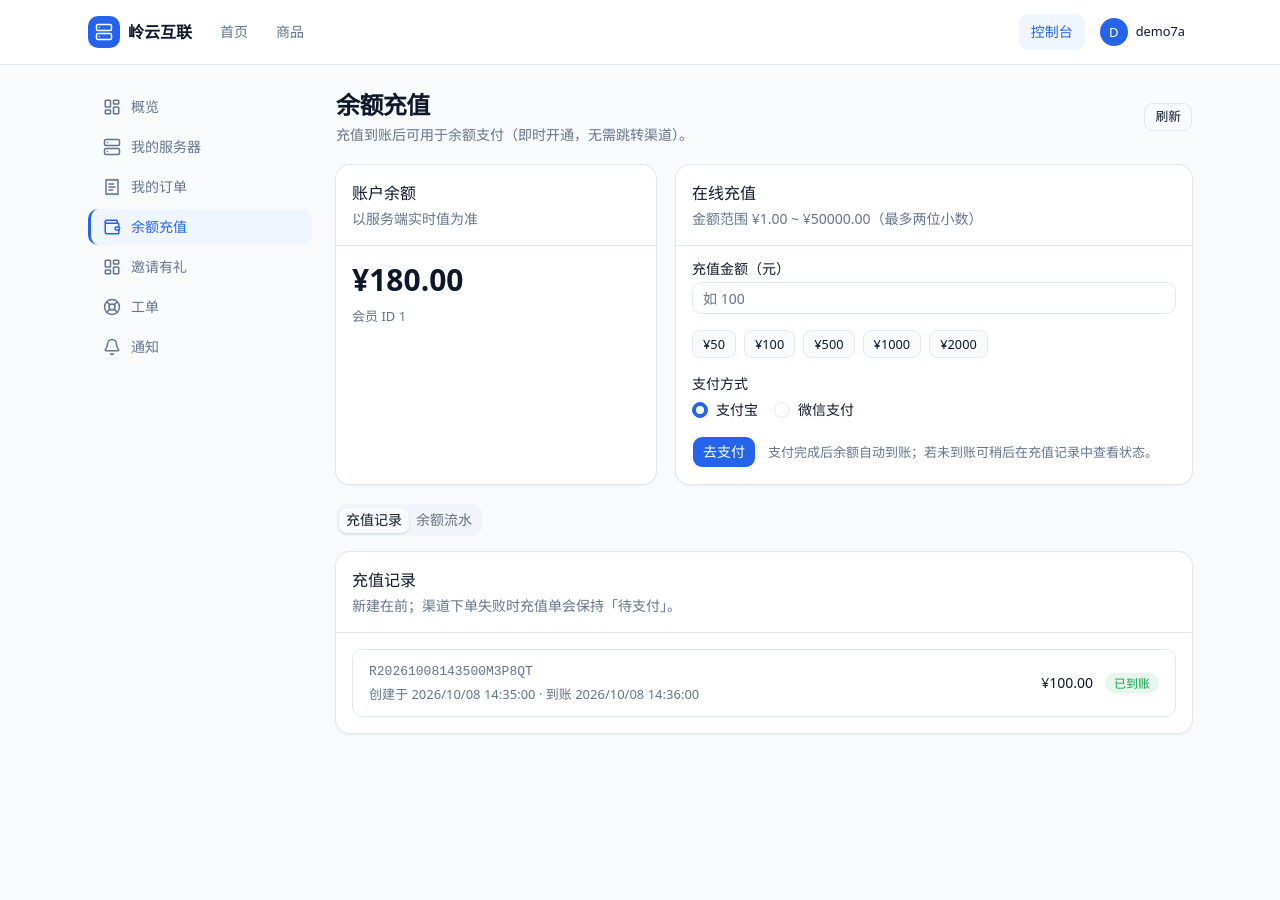
Scenario: 会员区 · 余额充值 › 渠道支付地址是脚本协议时给出可读提示，且不跳转、不静默失败
Check: the heading "余额充值" is shown, box [336,88,430,121]
Click the button "¥100" at (770, 344), box [744,330,795,358]
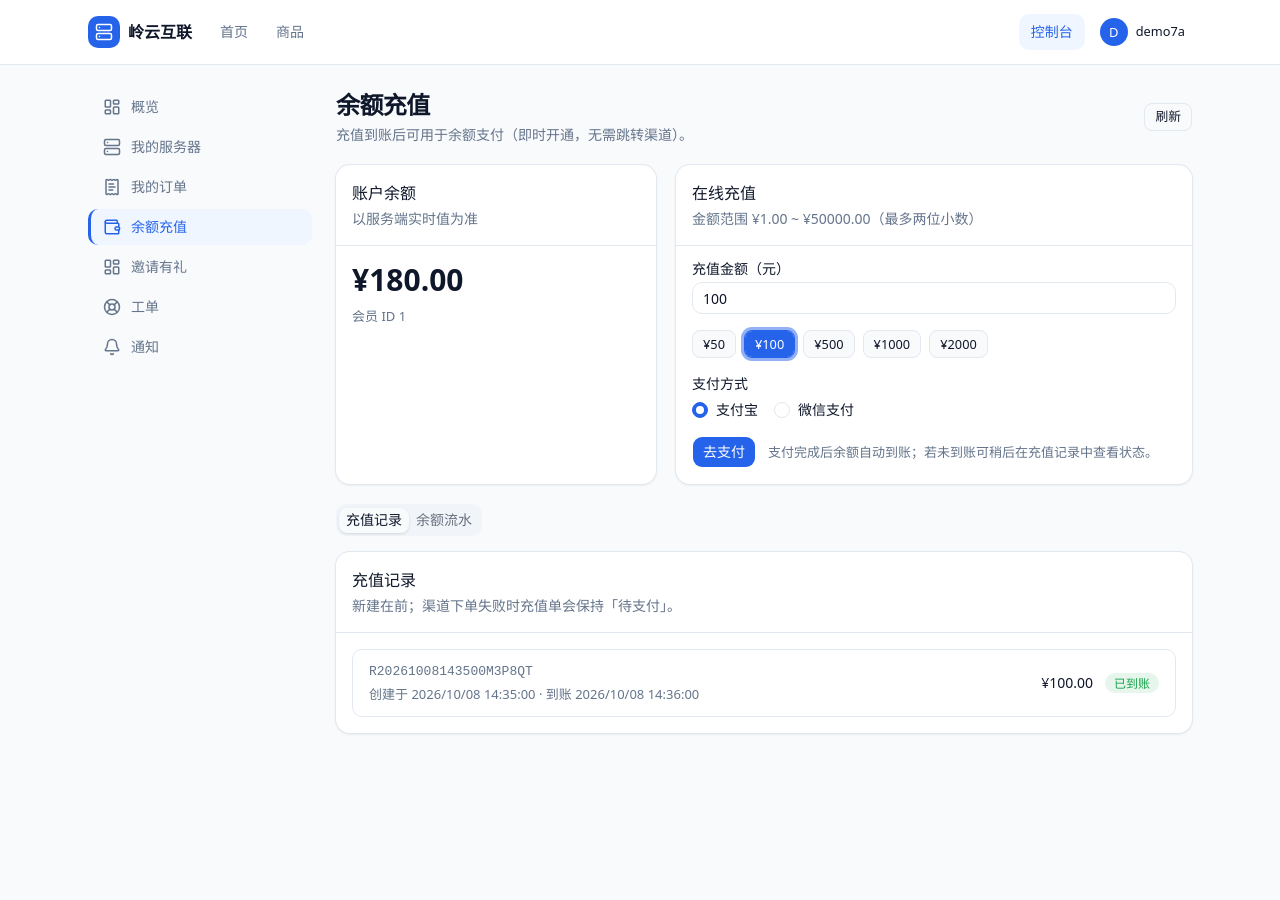
Check: the field labelled "充值金额（元）" holds "100", box [692,282,1176,314]
Click the button "去支付" at (724, 452), box [692,436,756,468]
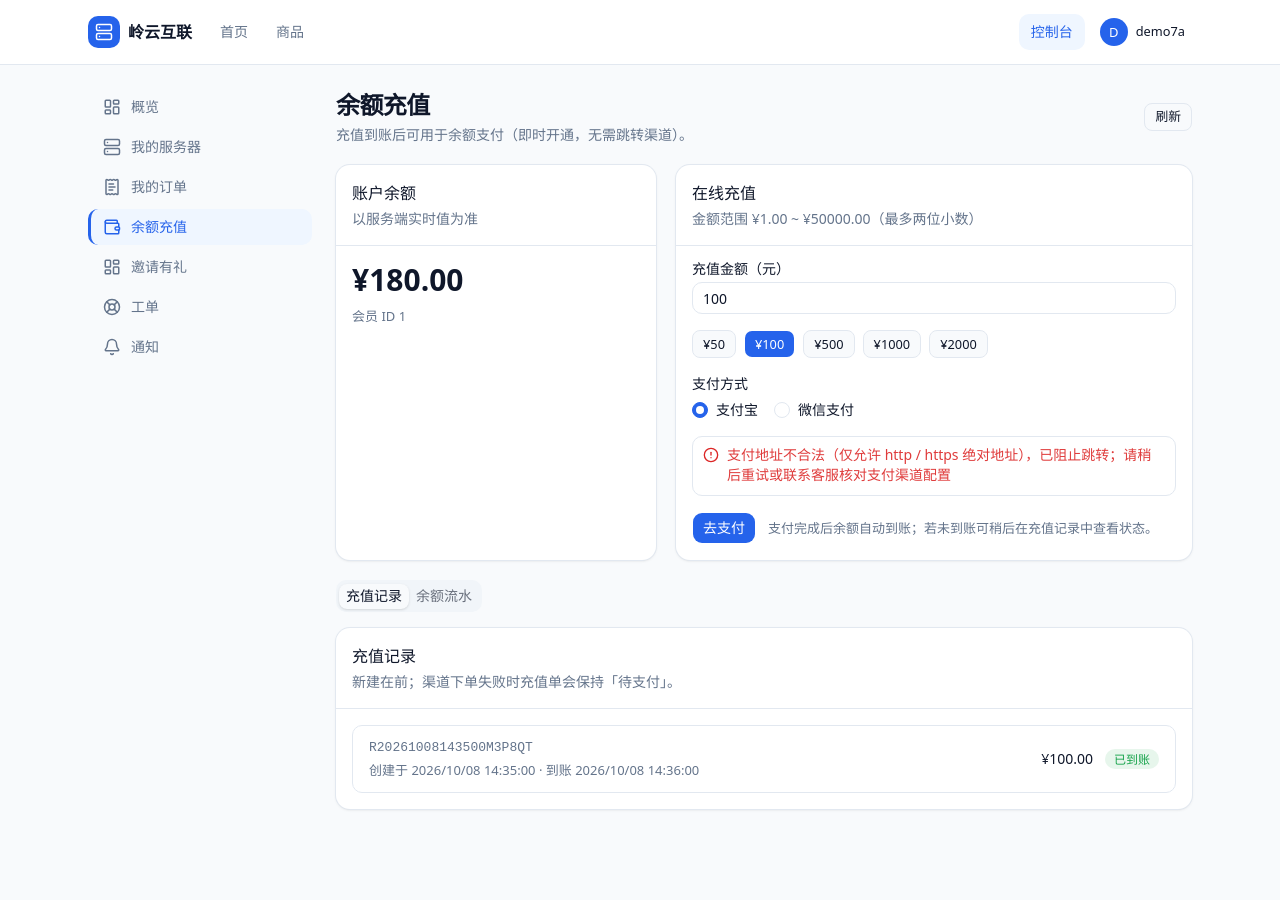
Check: the text "支付地址不合法（仅允许 http / https 绝对地址），已阻止跳转；请稍后重试或联系客服核对支付渠道配置" is shown, box [727,445,1165,485]
